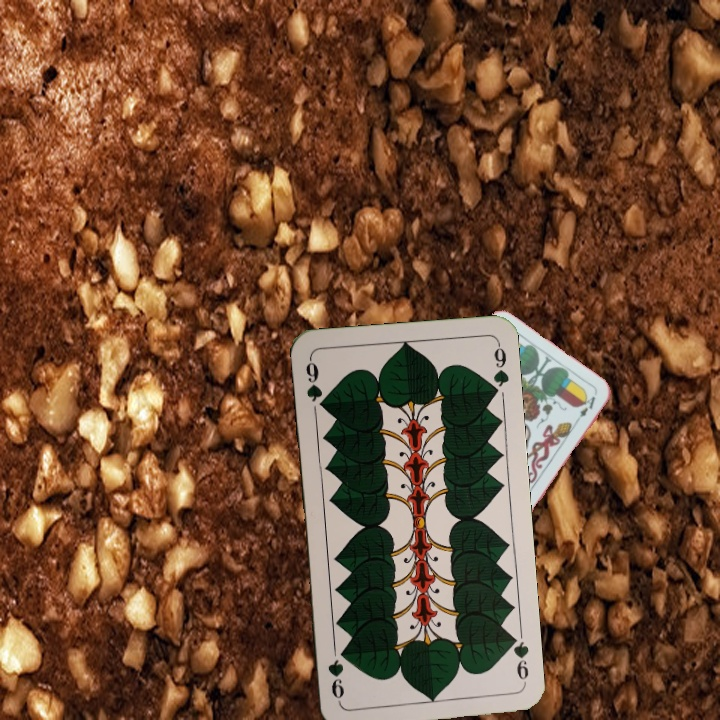G9: (301, 354, 329, 412), (505, 630, 532, 688)
